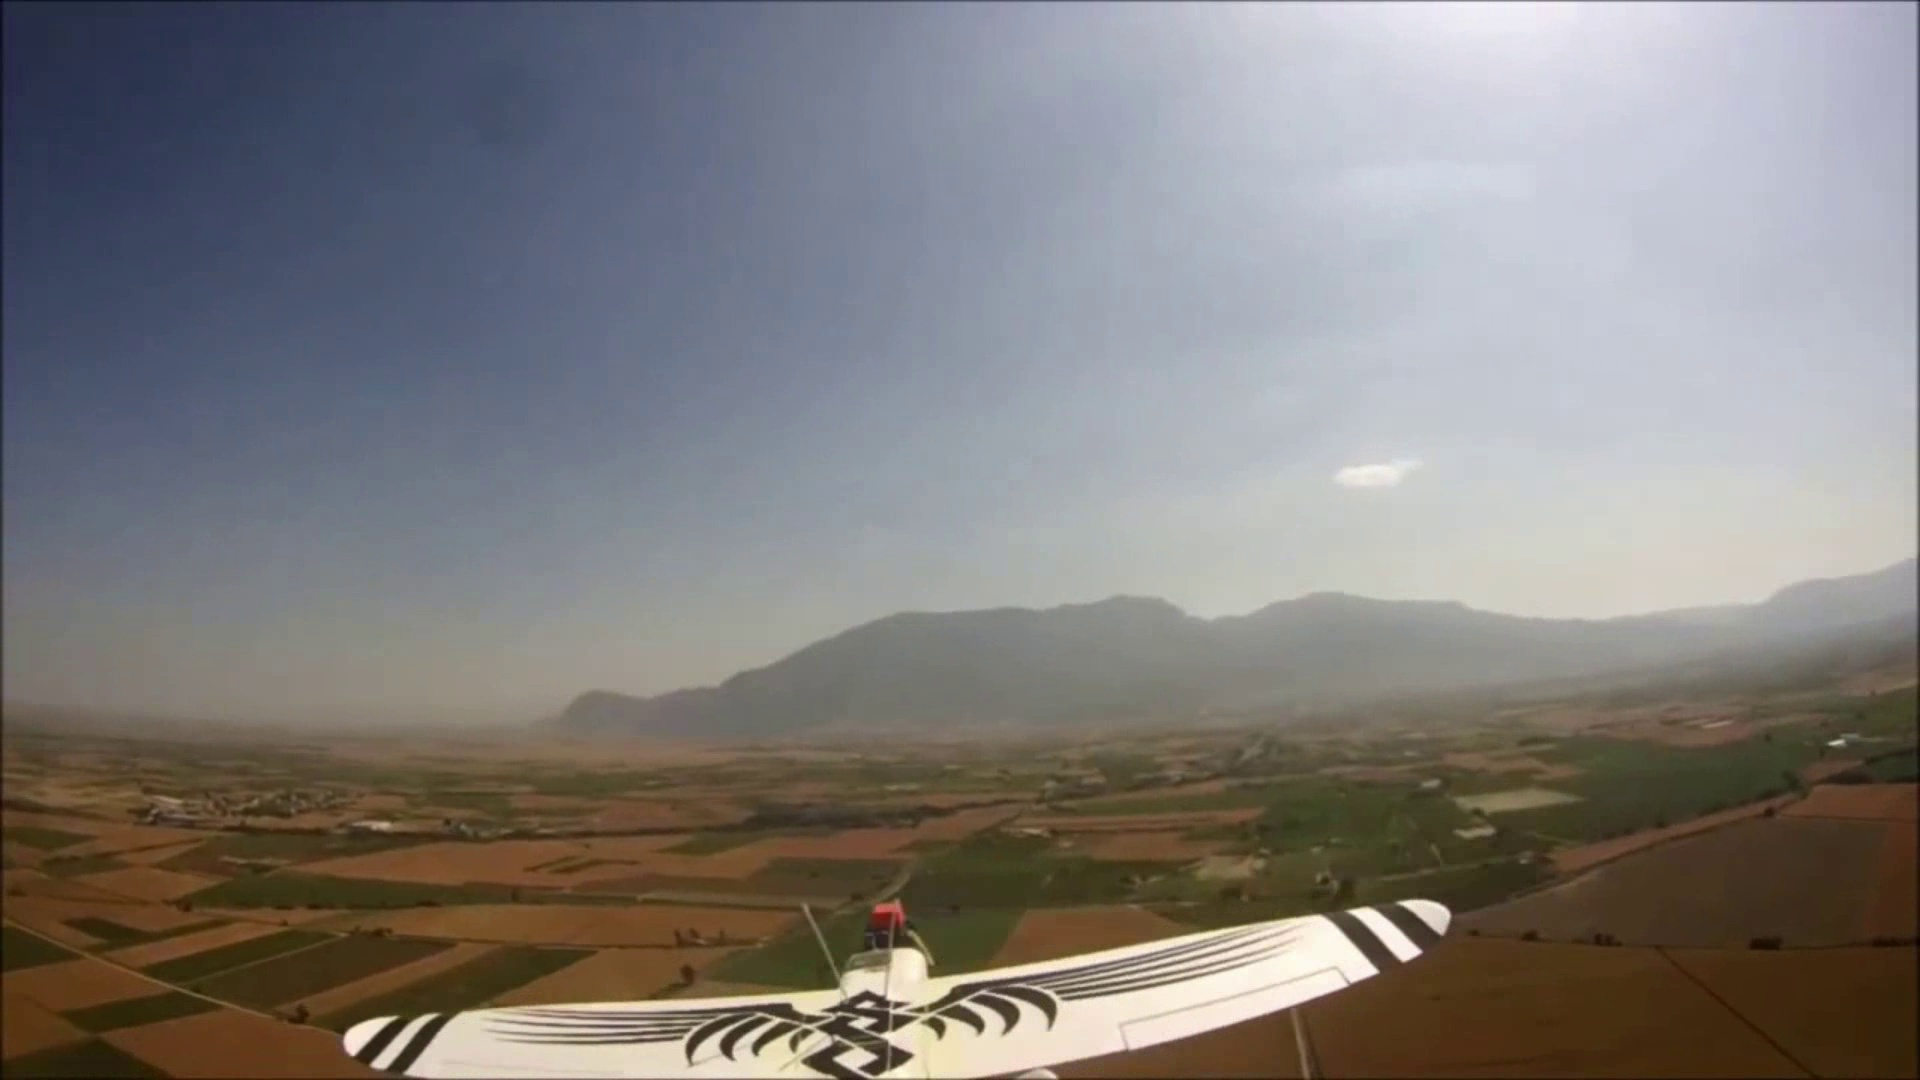airplane: (330, 753, 1891, 1073)
